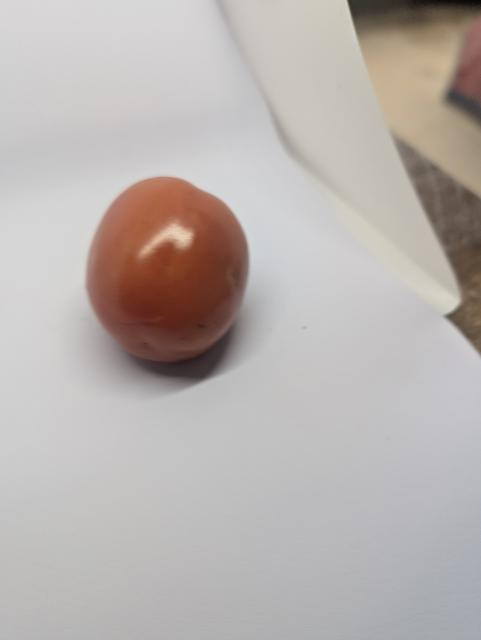red: (62, 171, 262, 379)
